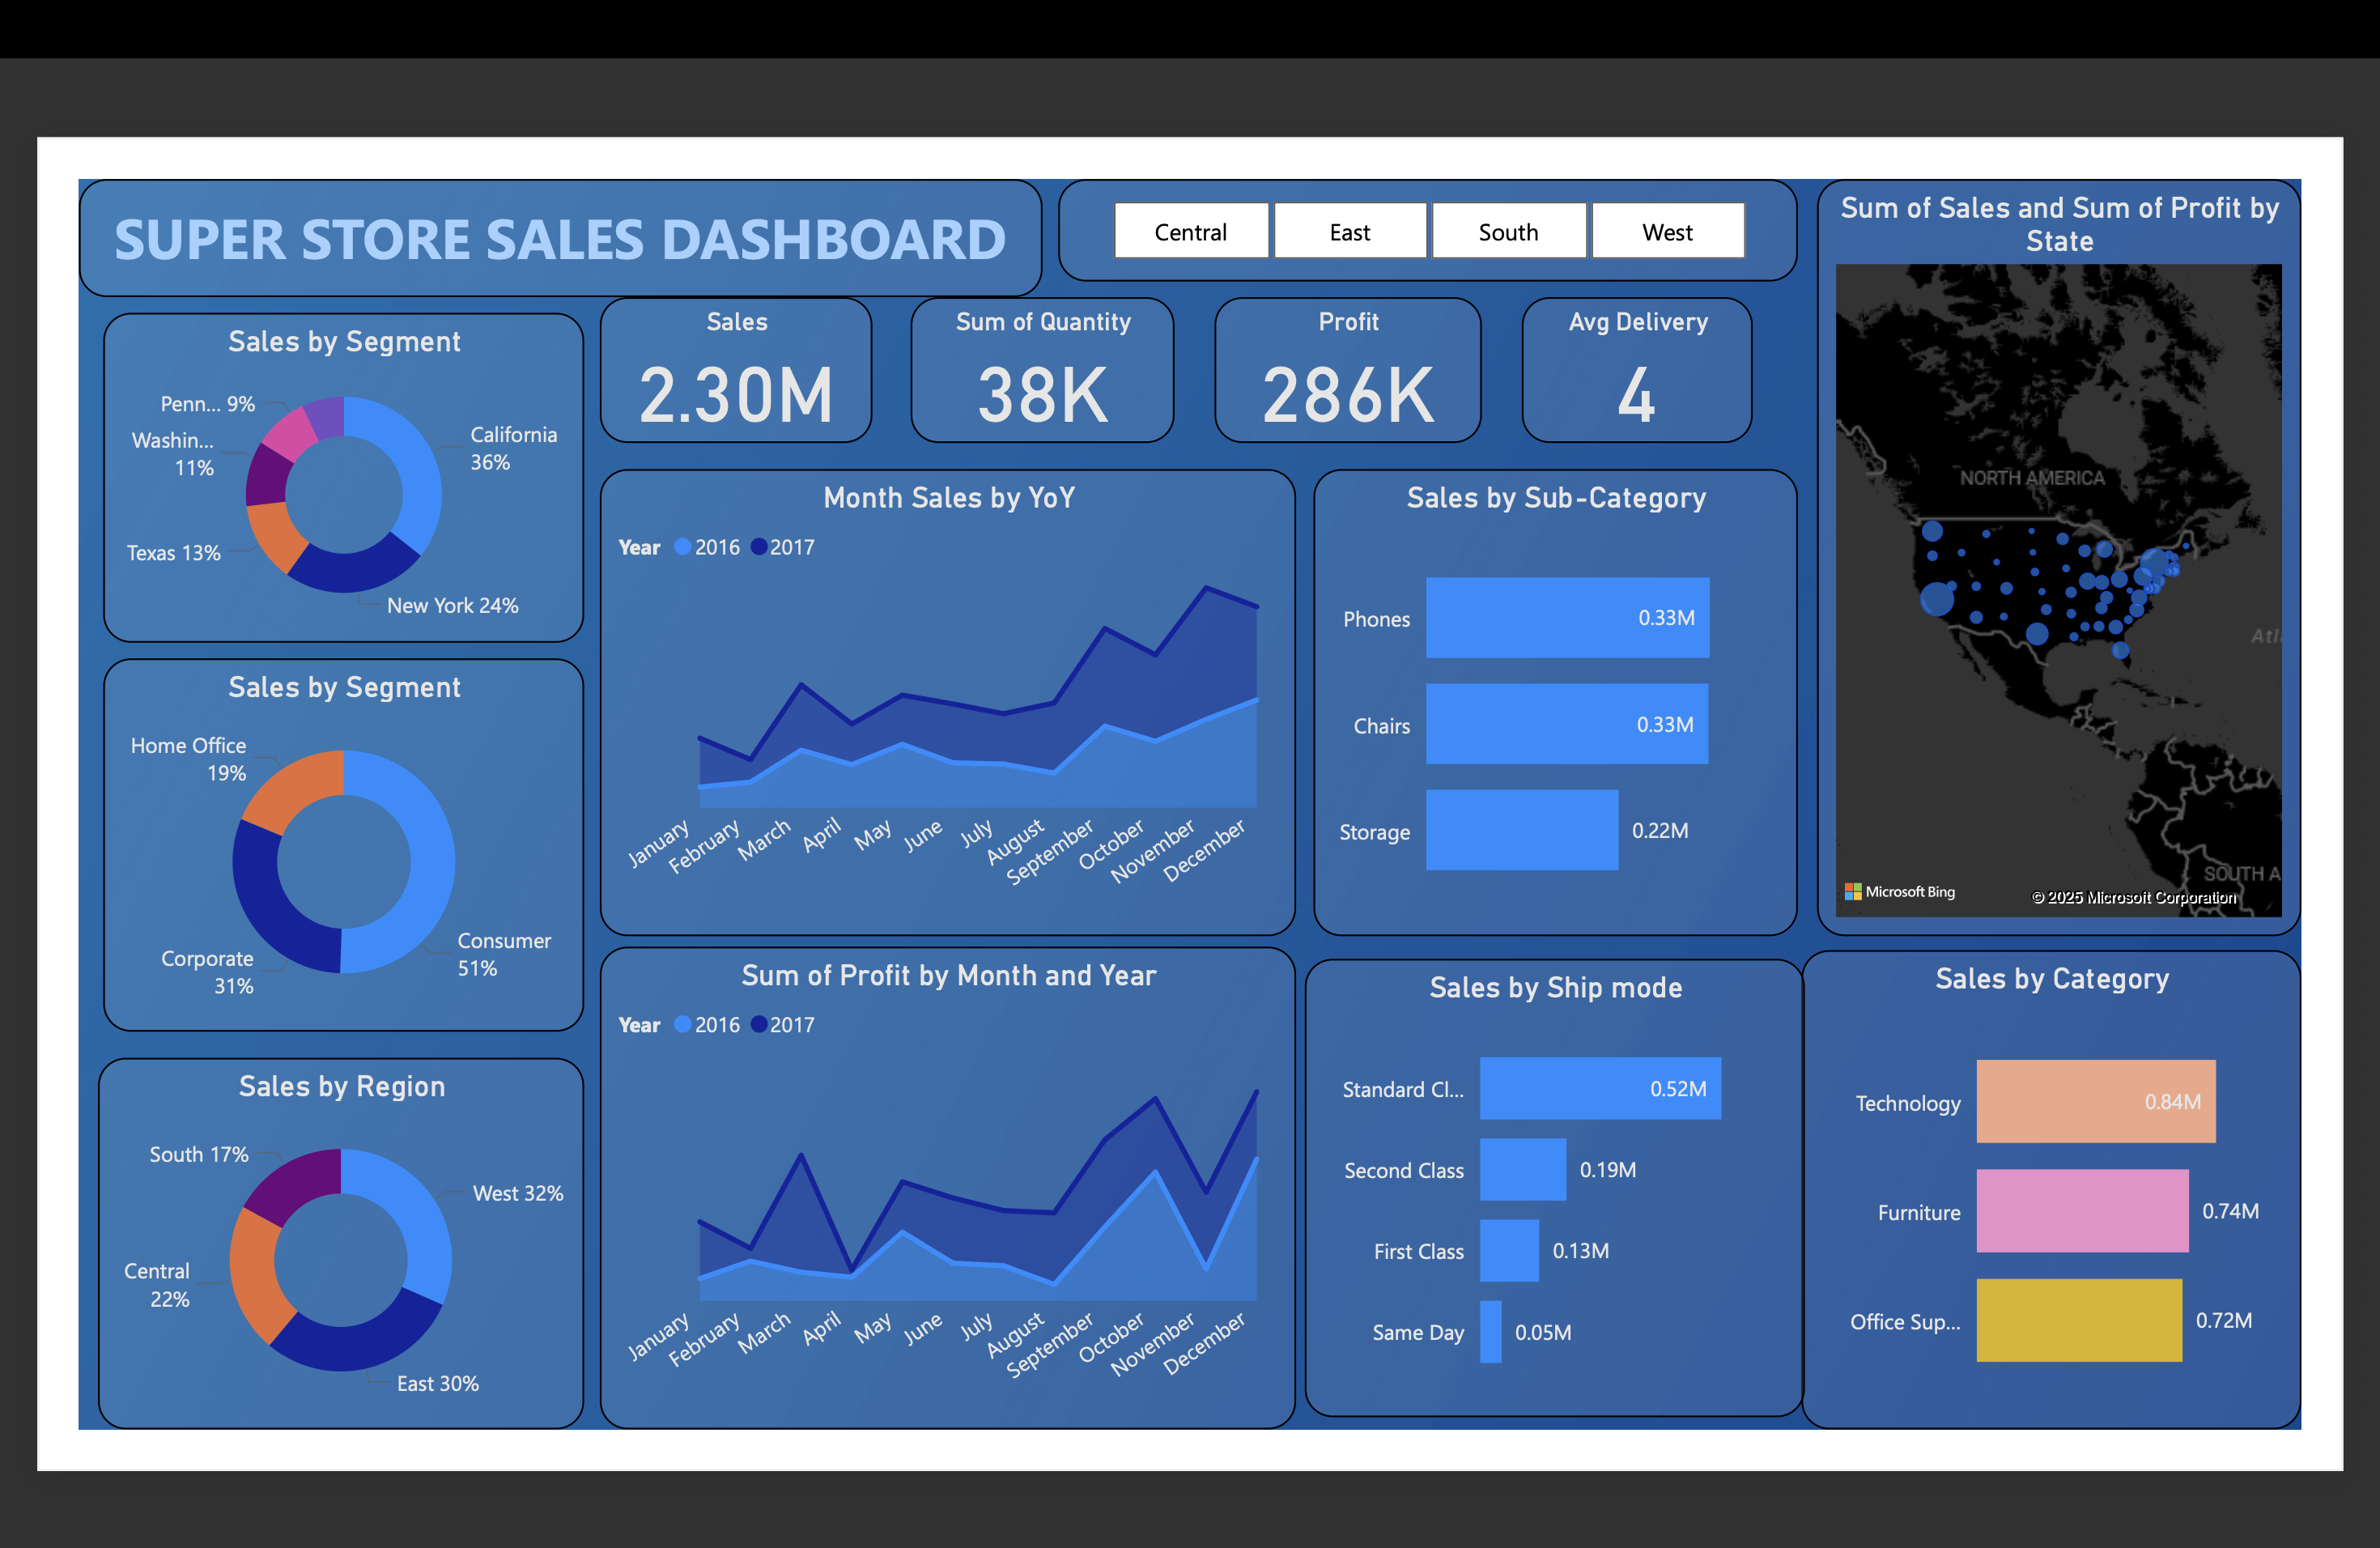

The dashboard page shown, as its layout file describes it:
{"tool":"powerbi","page":{"name":"Page 1","canvas":[1280,720],"ordinal":0},"visuals":[{"type":"clusteredBarChart","title":" Sales by Category","fields":{"Category":["Sample - Superstore.Category"],"Y":["Sum(Sample - Superstore.Sales)"]},"box":[991.6,444.4,288.4,276.1],"z":0},{"type":"clusteredBarChart","title":" Sales by Sub-Category","fields":{"Y":["Sum(Sample - Superstore.Sales)"],"Category":["Sample - Superstore.Sub-Category"]},"box":[710.6,167.1,279.8,268.6],"z":1000},{"type":"clusteredBarChart","title":" Sales by Ship mode","fields":{"Y":["Sum(Sample - Superstore.Sales)"],"Category":["Sample - Superstore.Ship Mode"]},"box":[705.6,449.4,288.4,263.7],"z":2000},{"type":"stackedAreaChart","title":"Month Sales by YoY","fields":{"Y":["Sum(Sample - Superstore.Sales)"],"Category":["Sample - Superstore.Order Date.Variation.Date Hierarchy.Month"],"Series":["Sample - Superstore.Order Date.Variation.Date Hierarchy.Year"]},"box":[299.6,167.1,401.1,268.6],"z":3000},{"type":"stackedAreaChart","fields":{"Category":["Sample - Superstore.Order Date.Variation.Date Hierarchy.Month"],"Series":["Sample - Superstore.Order Date.Variation.Date Hierarchy.Year"],"Y":["Sum(Sample - Superstore.Profit)"]},"box":[300,441.9,400.6,277.9],"z":4000},{"type":"map","fields":{"Category":["Sample - Superstore.State"],"Size":["Sum(Sample - Superstore.Sales)"]},"box":[1000.6,0,279.4,436],"z":5000},{"type":"donutChart","title":"Sales by Segment","fields":{"Category":["Sample - Superstore.Segment"],"Y":["Sum(Sample - Superstore.Sales)"]},"box":[13.6,276.1,277.3,215.4],"z":6000},{"type":"donutChart","title":" Sales by Region","fields":{"Y":["Sum(Sample - Superstore.Sales)"],"Category":["Sample - Superstore.Region"]},"box":[11.1,506.3,279.8,214.2],"z":7000},{"type":"slicer","fields":{"Values":["Sample - Superstore.Region"]},"box":[564.5,0,425.8,59.4],"z":8000},{"type":"textbox","box":[0,0,554.6,68.1],"z":9000},{"type":"card","title":"Sum of Quantity","fields":{"Values":["Sum(Sample - Superstore.Quantity)"]},"box":[479.1,68.1,152.3,84.2],"z":10000},{"type":"card","title":"Sales","fields":{"Values":["Sum(Sample - Superstore.Sales)"]},"box":[299.6,68.1,157.2,84.2],"z":11000},{"type":"card","title":"Profit","fields":{"Values":["Sum(Sample - Superstore.Profit)"]},"box":[653.6,68.1,154.7,84.2],"z":12000},{"type":"card","title":"Avg Delivery","fields":{"Values":["Avg(Sample - Superstore.Avgdelivery)"]},"box":[830.6,68.1,133.7,84.2],"z":13000},{"type":"donutChart","title":"Sales by Segment","fields":{"Y":["Sum(Sample - Superstore.Sales)"],"Category":["Sample - Superstore.State"]},"box":[13.6,76.8,277.3,190.6],"z":13001}]}

Visuals, with their boxes on the page's 1280x720 design canvas (x1, y1, x2, y2). These are canvas units, not pixel positions in the 2380x1548 screenshot, which may show the page scaled, cropped or inside an application window:
" Sales by Category" clusteredBarChart: <bbox>992, 444, 1280, 720</bbox>
" Sales by Sub-Category" clusteredBarChart: <bbox>711, 167, 990, 436</bbox>
" Sales by Ship mode" clusteredBarChart: <bbox>706, 449, 994, 713</bbox>
"Month Sales by YoY" stackedAreaChart: <bbox>300, 167, 701, 436</bbox>
stackedAreaChart - Sample - Superstore.Order Date.Variation.Date Hierarchy.Month x Sample - Superstore.Order Date.Variation.Date Hierarchy.Year: <bbox>300, 442, 701, 720</bbox>
map - Sample - Superstore.State x Sum(Sample - Superstore.Sales): <bbox>1001, 0, 1280, 436</bbox>
"Sales by Segment" donutChart: <bbox>14, 276, 291, 492</bbox>
" Sales by Region" donutChart: <bbox>11, 506, 291, 720</bbox>
slicer - Sample - Superstore.Region: <bbox>564, 0, 990, 59</bbox>
textbox: <bbox>0, 0, 555, 68</bbox>
"Sum of Quantity" card: <bbox>479, 68, 631, 152</bbox>
"Sales" card: <bbox>300, 68, 457, 152</bbox>
"Profit" card: <bbox>654, 68, 808, 152</bbox>
"Avg Delivery" card: <bbox>831, 68, 964, 152</bbox>
"Sales by Segment" donutChart: <bbox>14, 77, 291, 267</bbox>
